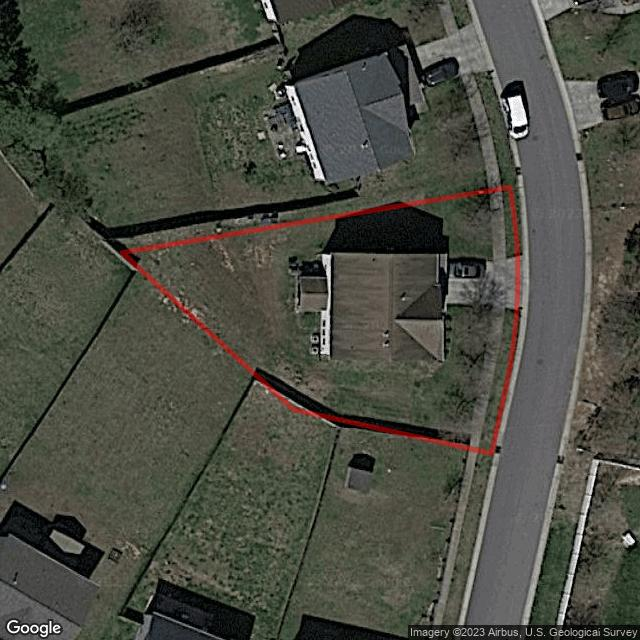Driveway: (448, 259, 513, 307)
House: (296, 252, 447, 363)
